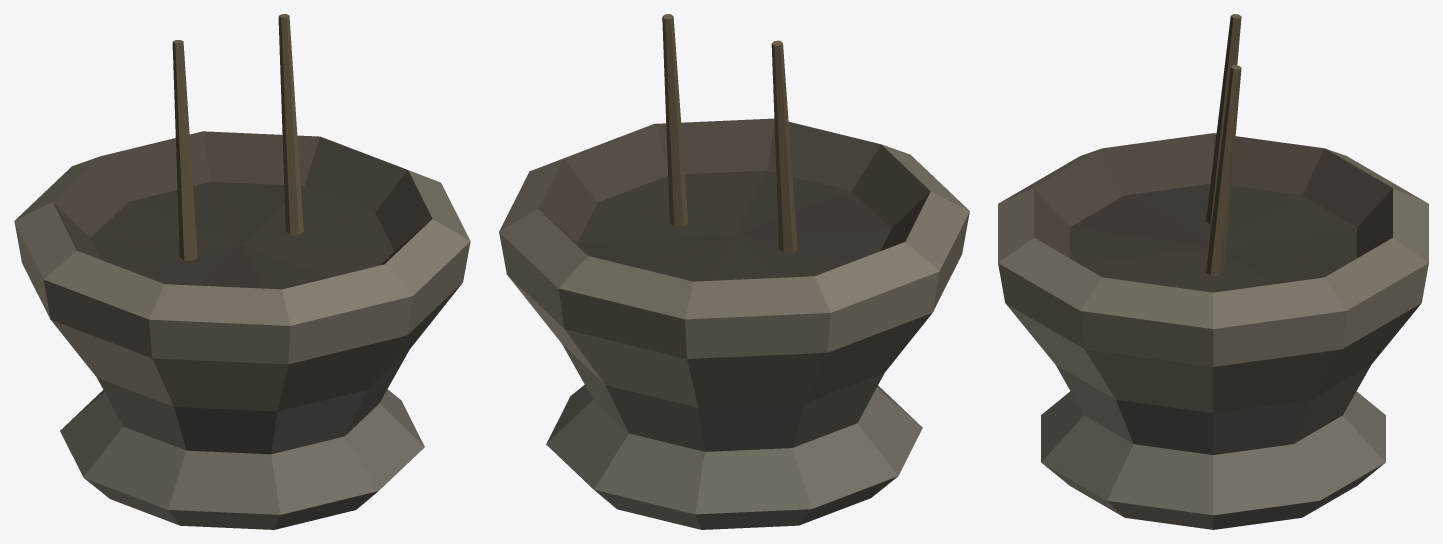
3 renders of one model, left to right at view 1: azimuth 30°, elevation 25°; view 2: azimuth 150°, elevation 25°; view 3: azimuth 270°, elevation 25°, orthographic. The views are drawn at different scales.
Visible parts, largest first — view 1: tower-incense; view 2: tower-incense; view 3: tower-incense.
Boxes of the visible parts, x1,y1,x2,y2 form: tower-incense: (14, 14, 470, 529); tower-incense: (499, 14, 969, 529); tower-incense: (998, 14, 1428, 529).
Bounding box in the file's own units: 0.6 × 0.6207 × 0.5706.
